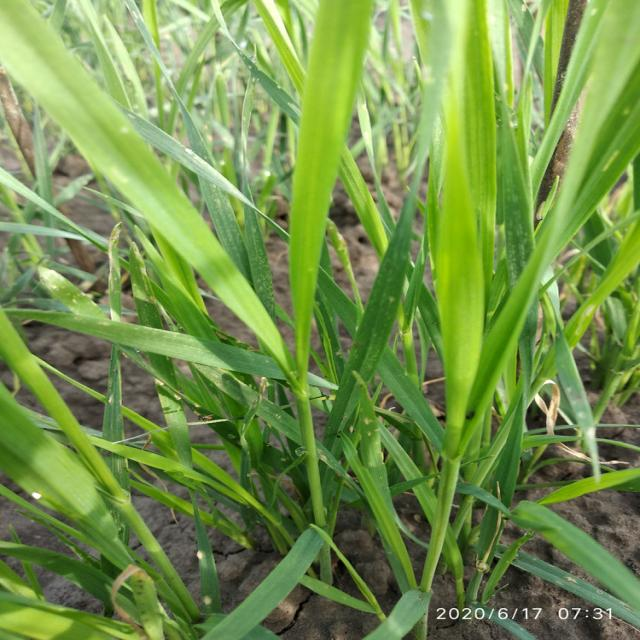wheat-powdery-mildew: (504, 209, 537, 289), (246, 228, 275, 318), (201, 594, 214, 605), (563, 577, 576, 585), (196, 549, 206, 559), (364, 414, 373, 425)
